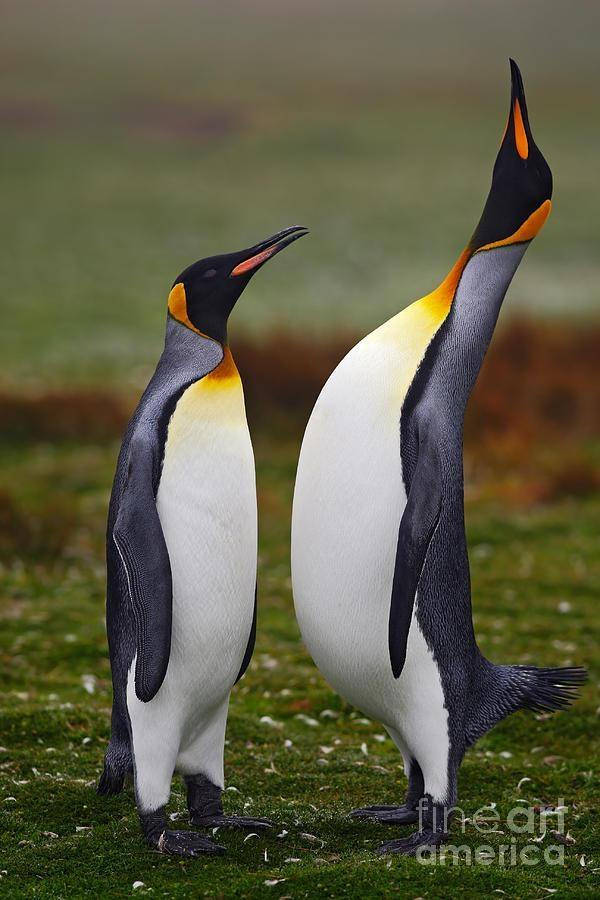Penguin: (292, 62, 587, 854), (98, 227, 307, 857)
